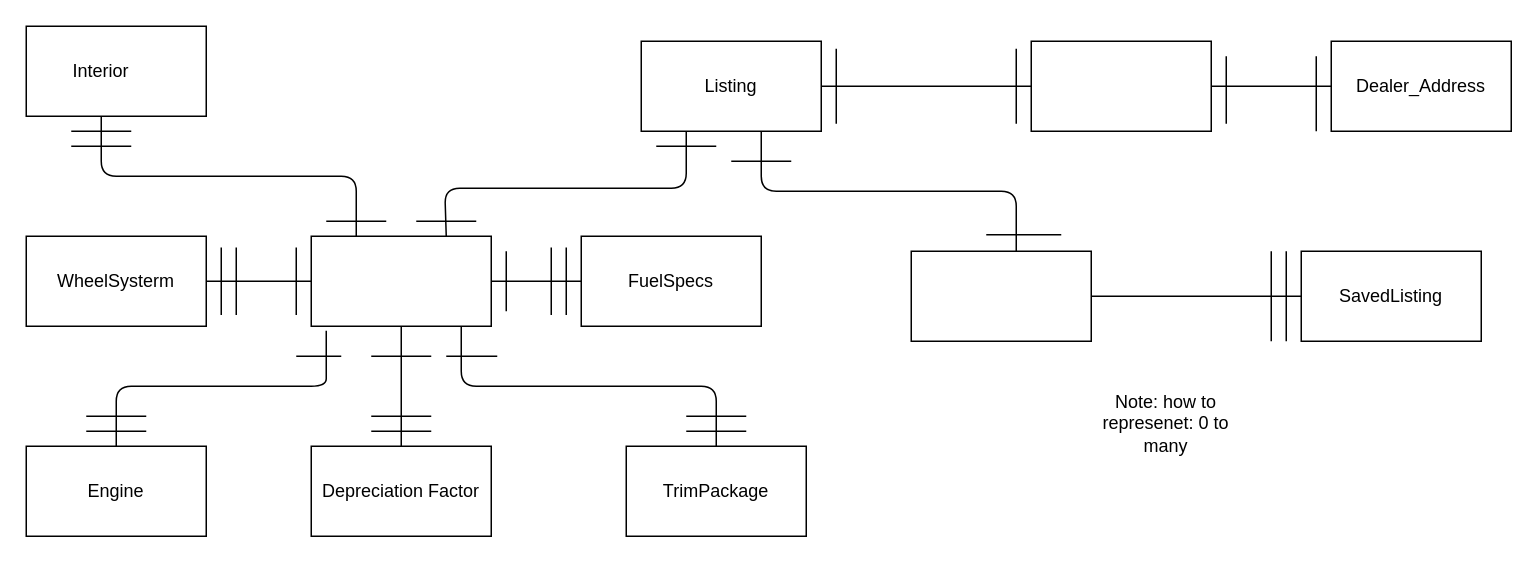
Some shapes in this 1538 by 563 pixel diagram are drawn without their labels. Here are the shapes that lost their labels. From the top down, the centre of each, then its label:
point 1120,85: Dealer
point 400,280: Car
point 1000,295: User
